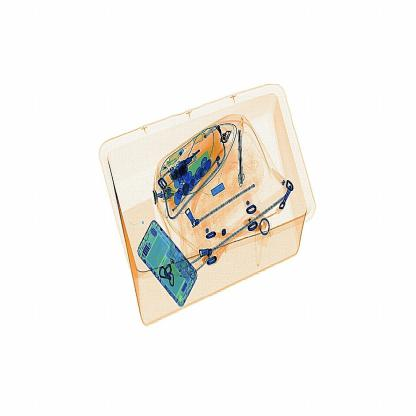knife: (236, 127, 248, 188)
